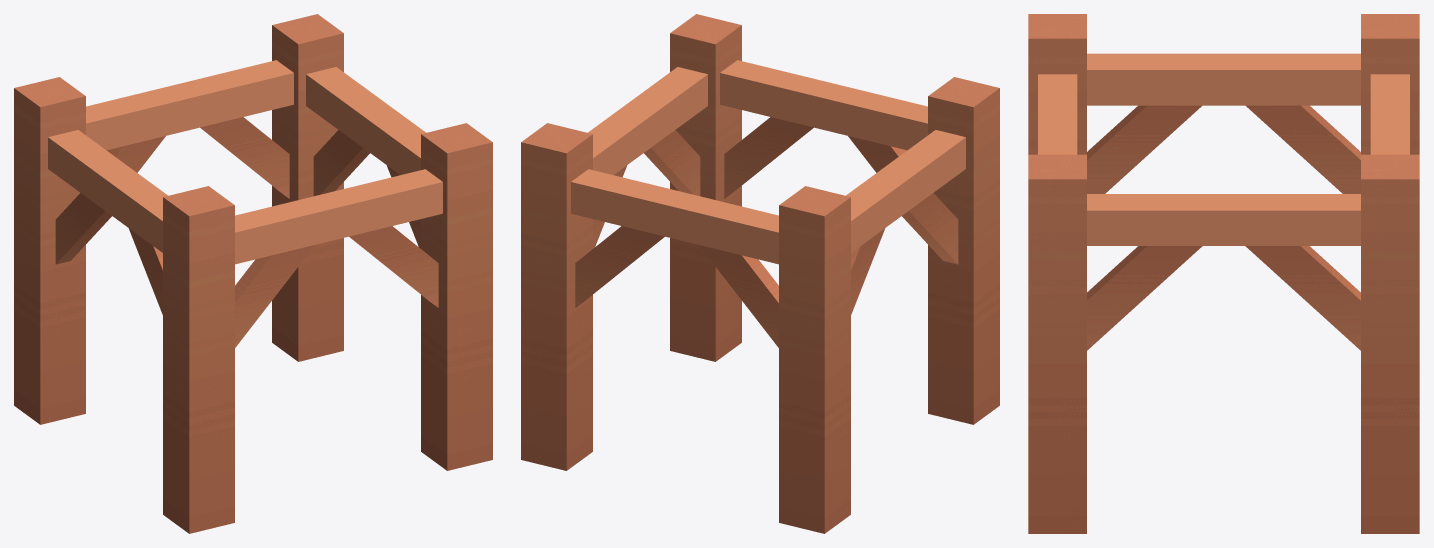
File: wood-structure.glb
3 renders of one model, left to right at view 1: azimuth 30°, elevation 25°; view 2: azimuth 150°, elevation 25°; view 3: azimuth 270°, elevation 25°, orthographic. The views are drawn at different scales.
Parts seen in each view (by area): view 1: wood-structure; view 2: wood-structure; view 3: wood-structure.
Part boxes in pixels (left/top/right/bottom): wood-structure: left=14, top=14, right=492, bottom=533; wood-structure: left=521, top=14, right=999, bottom=533; wood-structure: left=1028, top=14, right=1419, bottom=533.
Bounding box in the file's own units: 1 × 1 × 1.
Materials: 1 (1 with a texture image).
